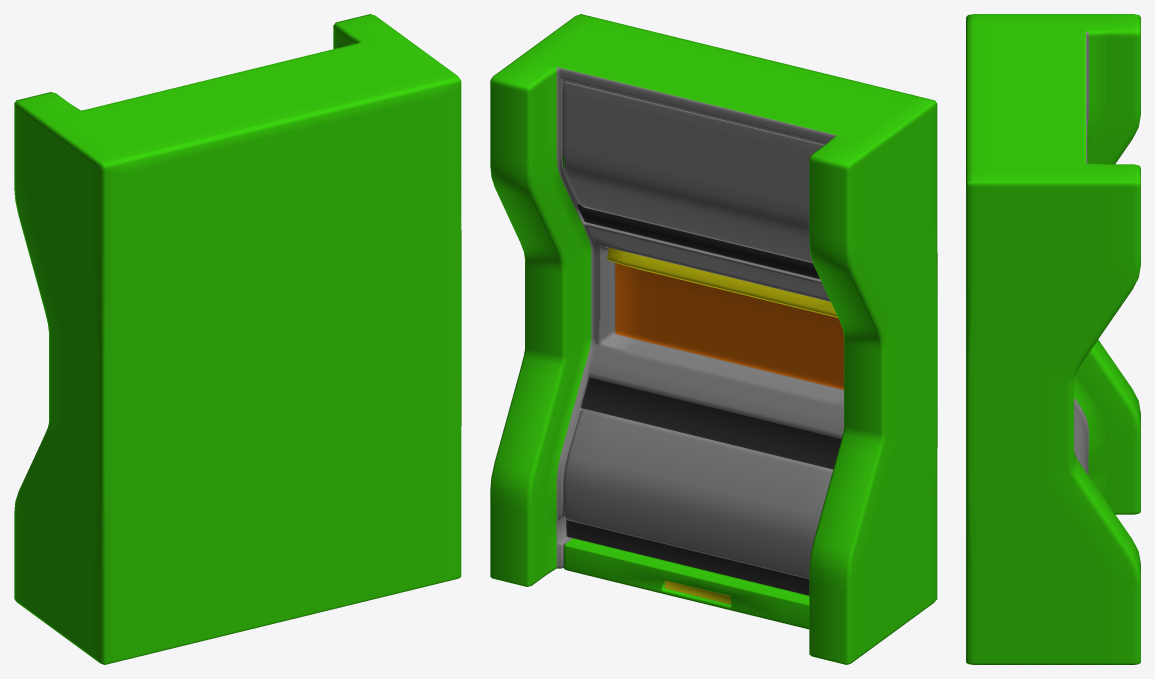
Rendered from Wall2Mat.fbx.
3 renders of one model, left to right at view 1: azimuth 30°, elevation 25°; view 2: azimuth 150°, elevation 25°; view 3: azimuth 270°, elevation 25°, orthographic. The views are drawn at different scales.
Parts seen in each view (by area): view 1: Cube.002; view 2: Cube.002; view 3: Cube.002.
Boxes of the visible parts, <box> form: Cube.002: <box>14,14,461,664</box>; Cube.002: <box>490,14,937,664</box>; Cube.002: <box>966,14,1140,664</box>.
Bounding box in the file's own units: 445 × 592 × 194.
